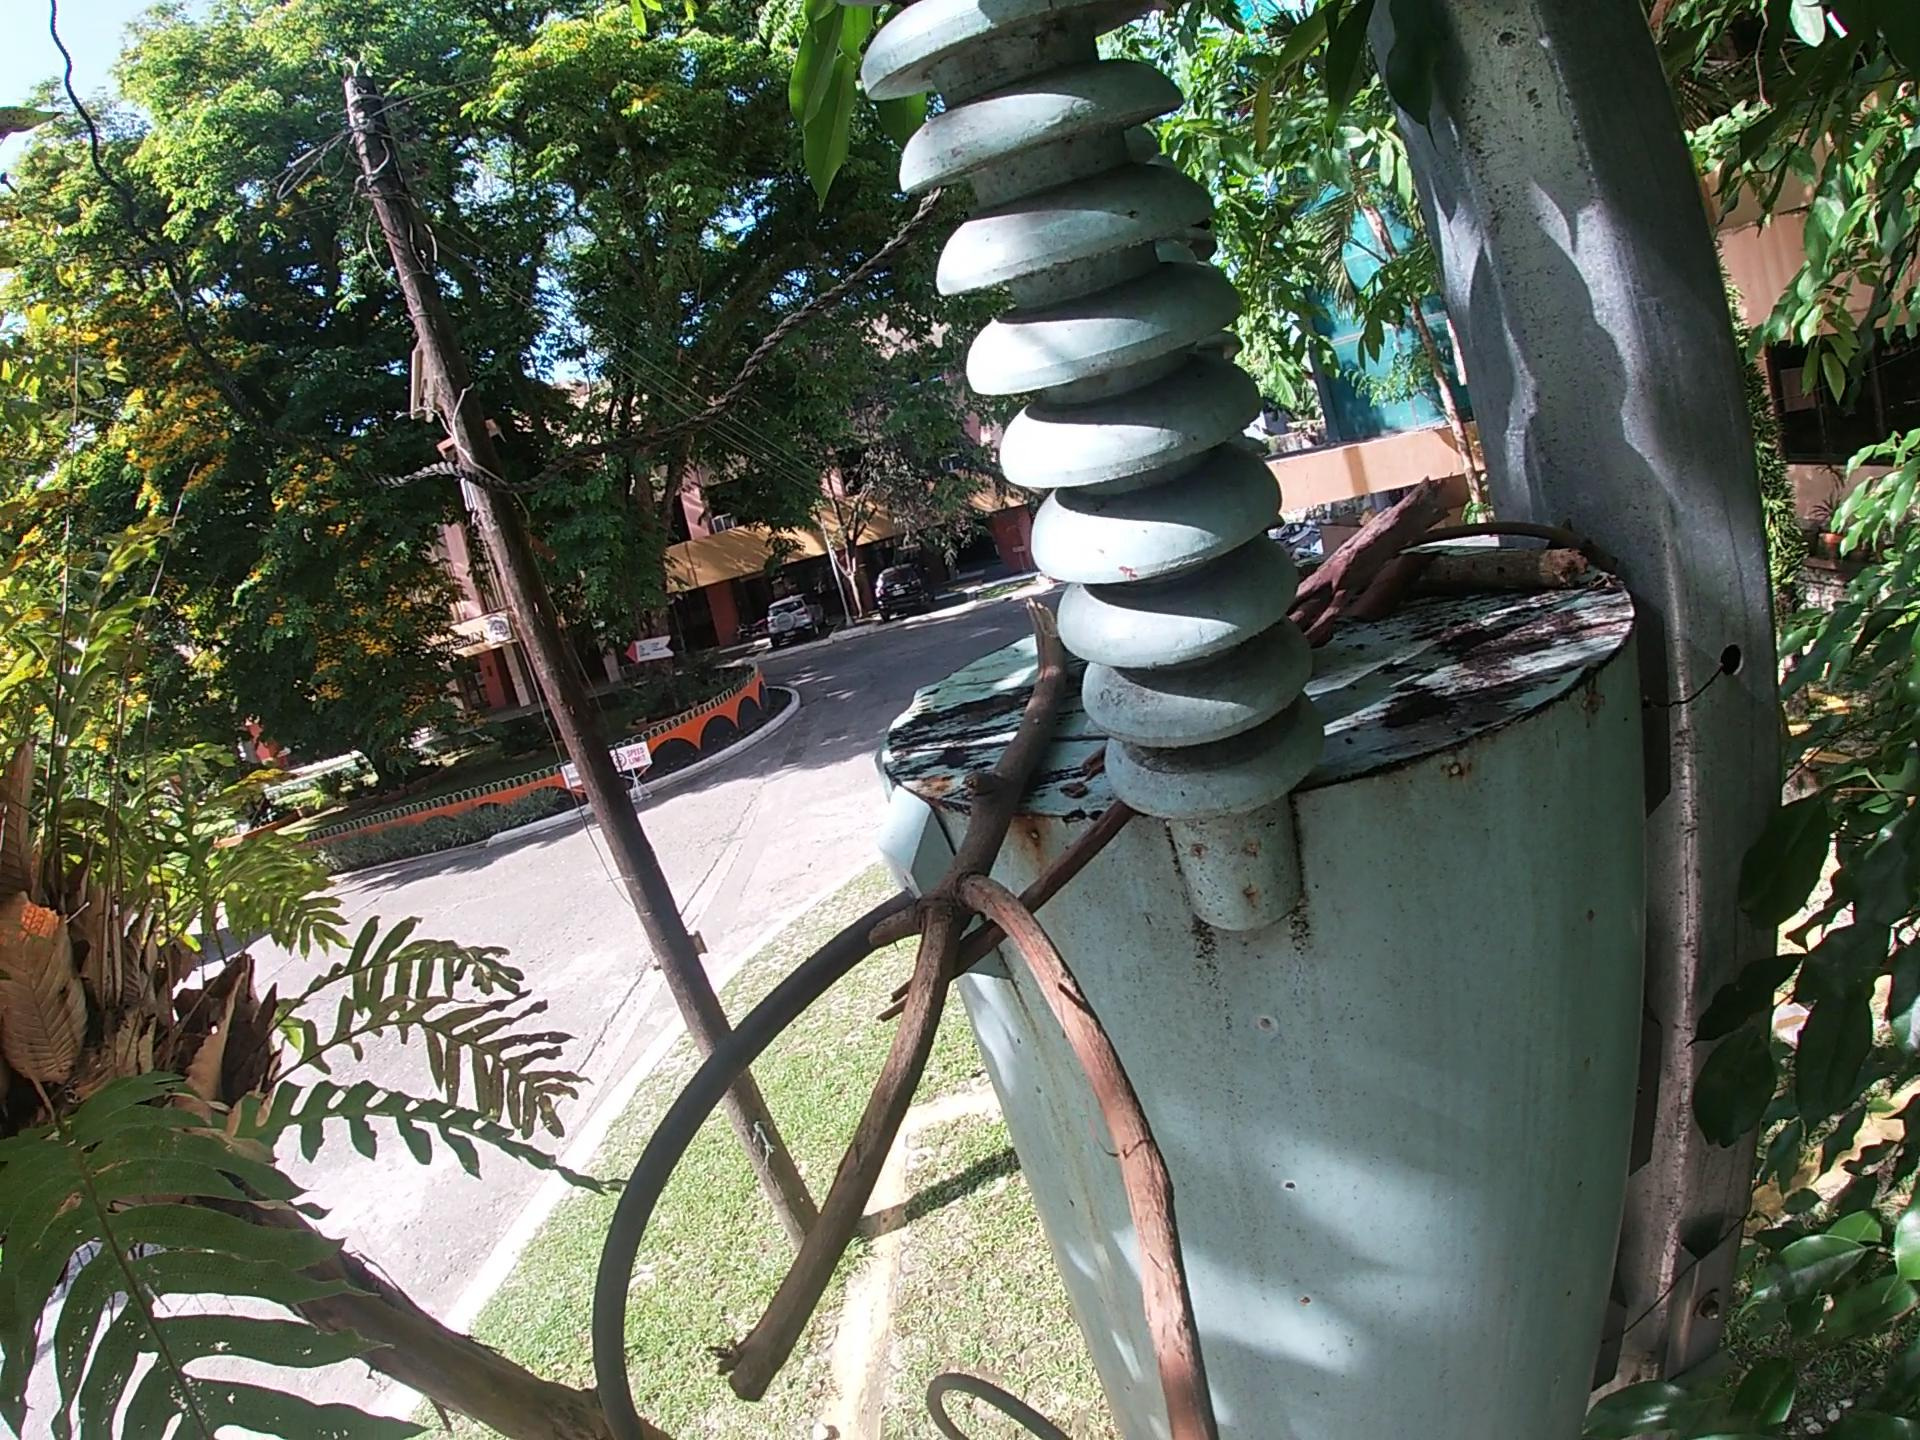leaf: (1330, 545, 1445, 632)
tree branch: (695, 587, 1237, 1438), (877, 793, 1147, 1038), (1290, 470, 1457, 658), (1403, 542, 1598, 597), (1404, 513, 1627, 558)
